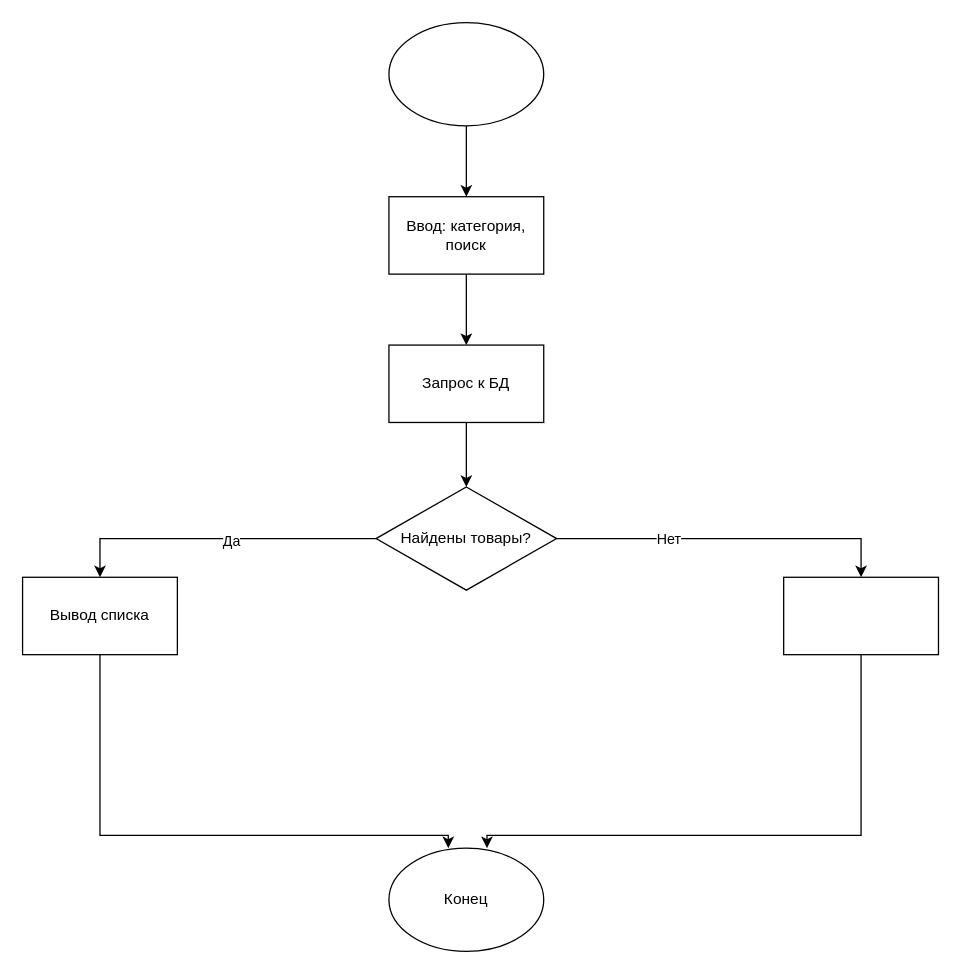
Image size: 961x974. Some labels were removed from this diagram. Each missing label, with the centre of its shape:
"Вывод: пусто" belongs at point (860, 615).
"Начало" belongs at point (466, 73).
